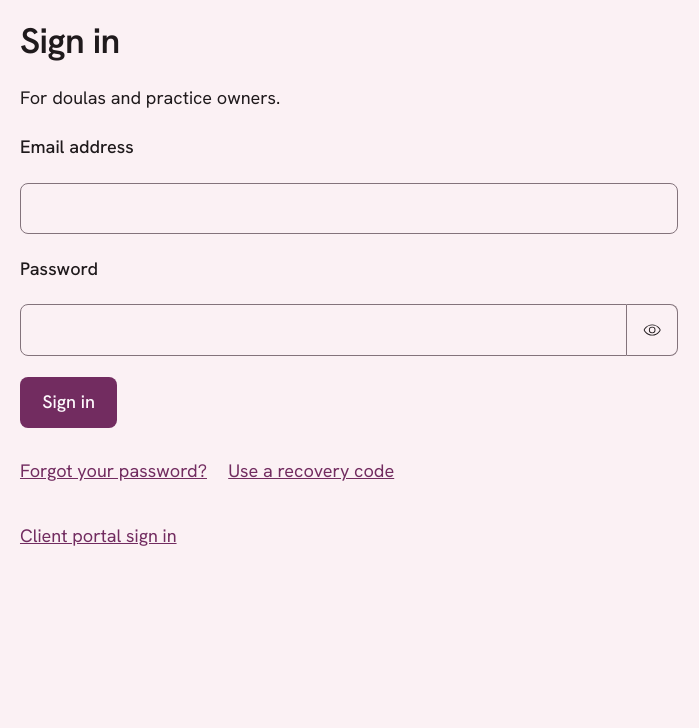
Test case: Staff login -- a credential that resolves to no Practice (#745) › leaves a Client-portal identity with the refusal it already gets
Type "priya@example.com" into the field labelled "Email address" at (349, 208), box [20,183,678,234]
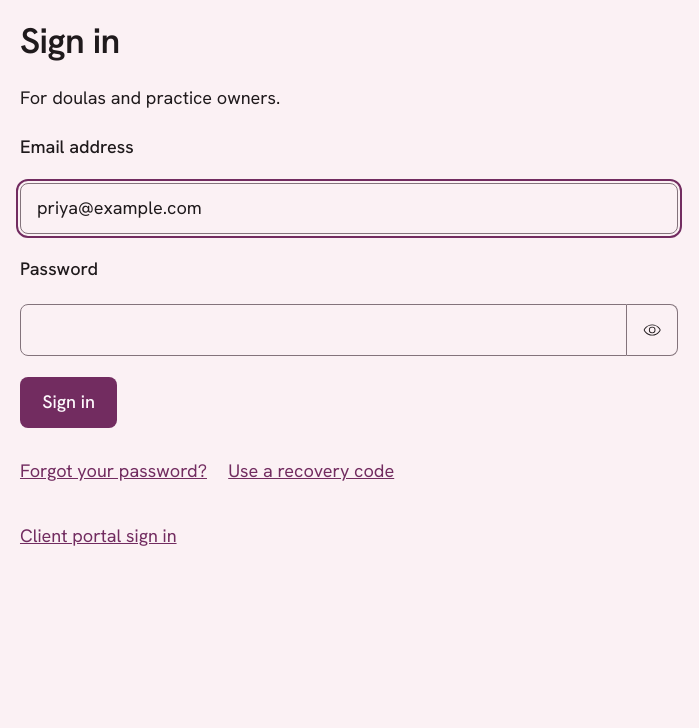
Type "correct horse" into the password field labelled "Password" at (323, 330), box [20,304,627,356]
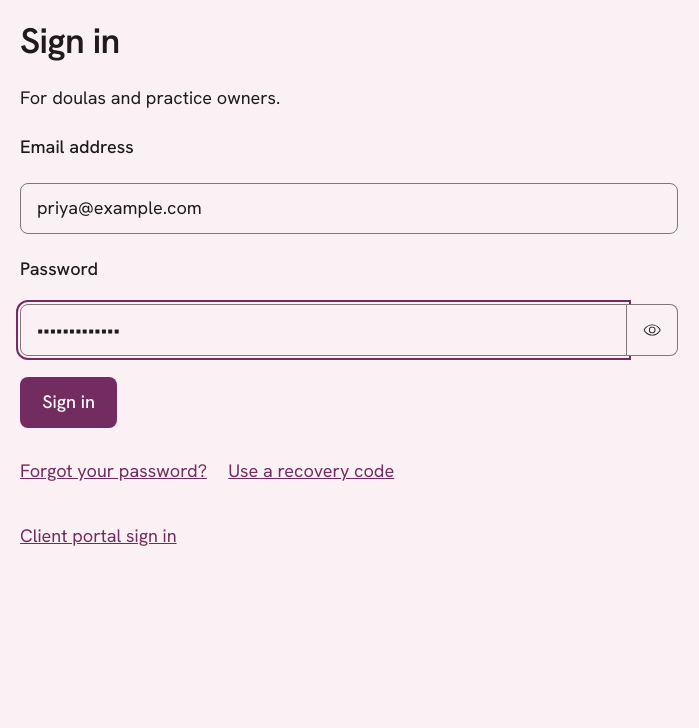
Click the button "Sign in" at (69, 402), box [20,377,117,428]
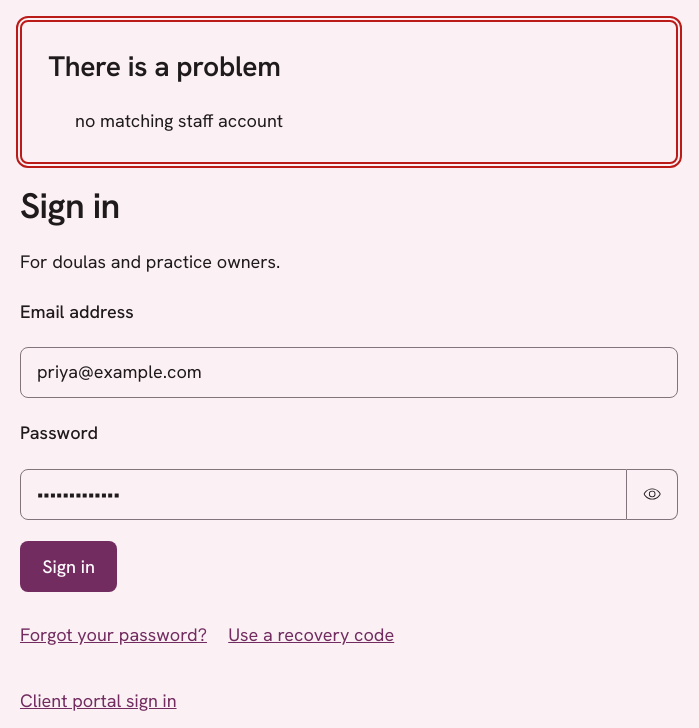
expect the list item "no matching staff account" is shown: met, box [75,109,283,132]
